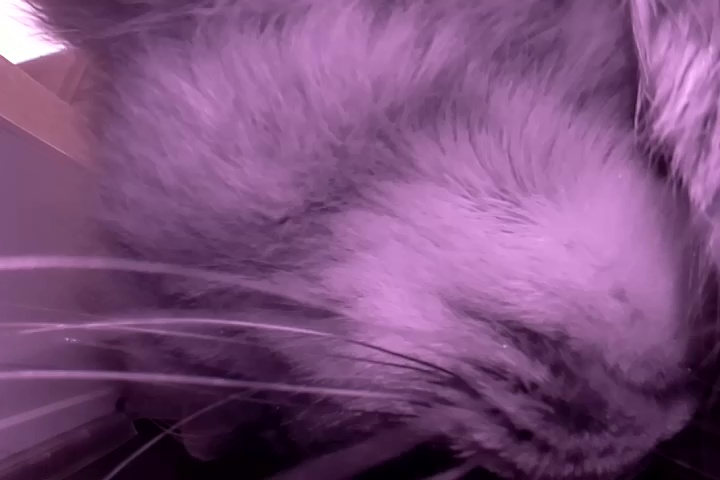Snout: (413, 250, 714, 473)
